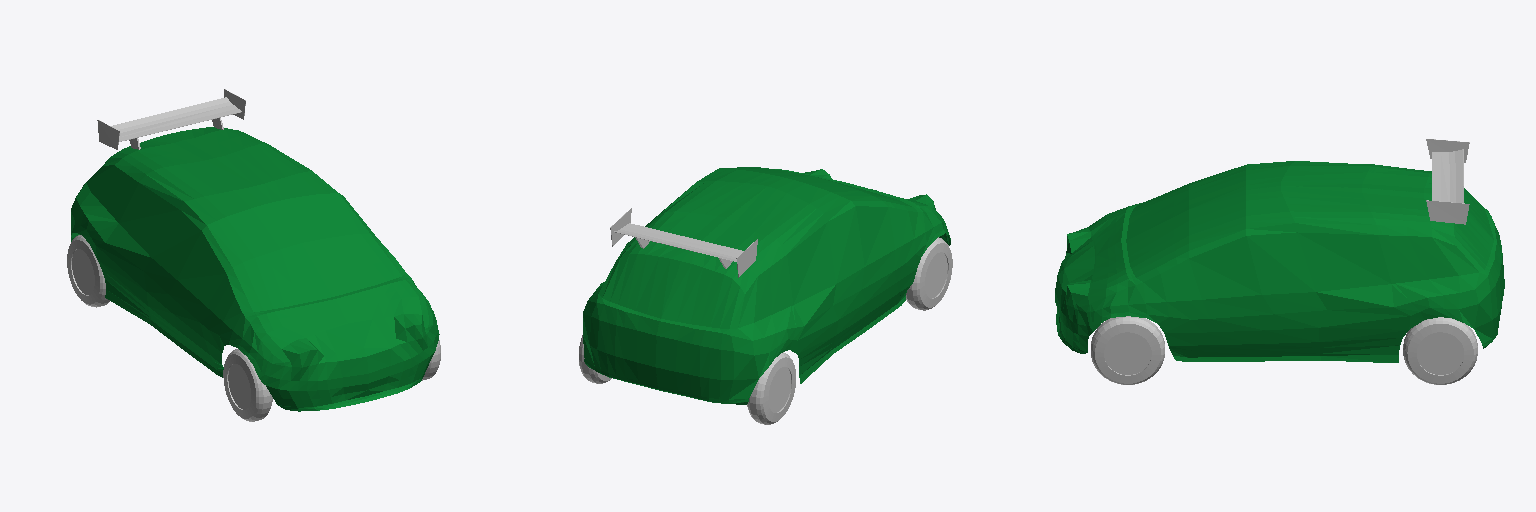
The model's file is twong.obj.
3 renders of one model, left to right at view 1: azimuth 30°, elevation 25°; view 2: azimuth 150°, elevation 25°; view 3: azimuth 270°, elevation 25°, orthographic.
Visible parts, largest first — view 1: Body_Cube.002, Wing_Cube, frwheel_Cylinder.002, rrwheel_Cylinder.003; view 2: Body_Cube.002, Wing_Cube, rrwheel_Cylinder.003, frwheel_Cylinder.002; view 3: Body_Cube.002, flwheel_Cylinder, rlwheel_Cylinder.001, Wing_Cube.
Part boxes in pixels (bbox=[...]): Body_Cube.002: bbox=[71, 127, 439, 411]; Wing_Cube: bbox=[97, 89, 245, 149]; frwheel_Cylinder.002: bbox=[223, 349, 272, 421]; rrwheel_Cylinder.003: bbox=[67, 235, 109, 307]; Body_Cube.002: bbox=[583, 167, 950, 404]; Wing_Cube: bbox=[610, 208, 757, 277]; rrwheel_Cylinder.003: bbox=[747, 352, 795, 424]; frwheel_Cylinder.002: bbox=[906, 237, 952, 310]; Body_Cube.002: bbox=[1055, 161, 1504, 362]; flwheel_Cylinder: bbox=[1091, 316, 1164, 384]; rlwheel_Cylinder.001: bbox=[1403, 317, 1477, 384]; Wing_Cube: bbox=[1426, 139, 1469, 224].
Size of the model in its own units: 1.45 by 1.26 by 2.96.